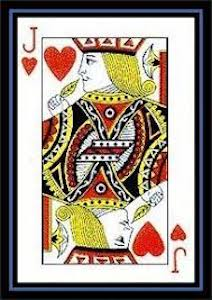JackOfHearts: (15, 14, 201, 287)
